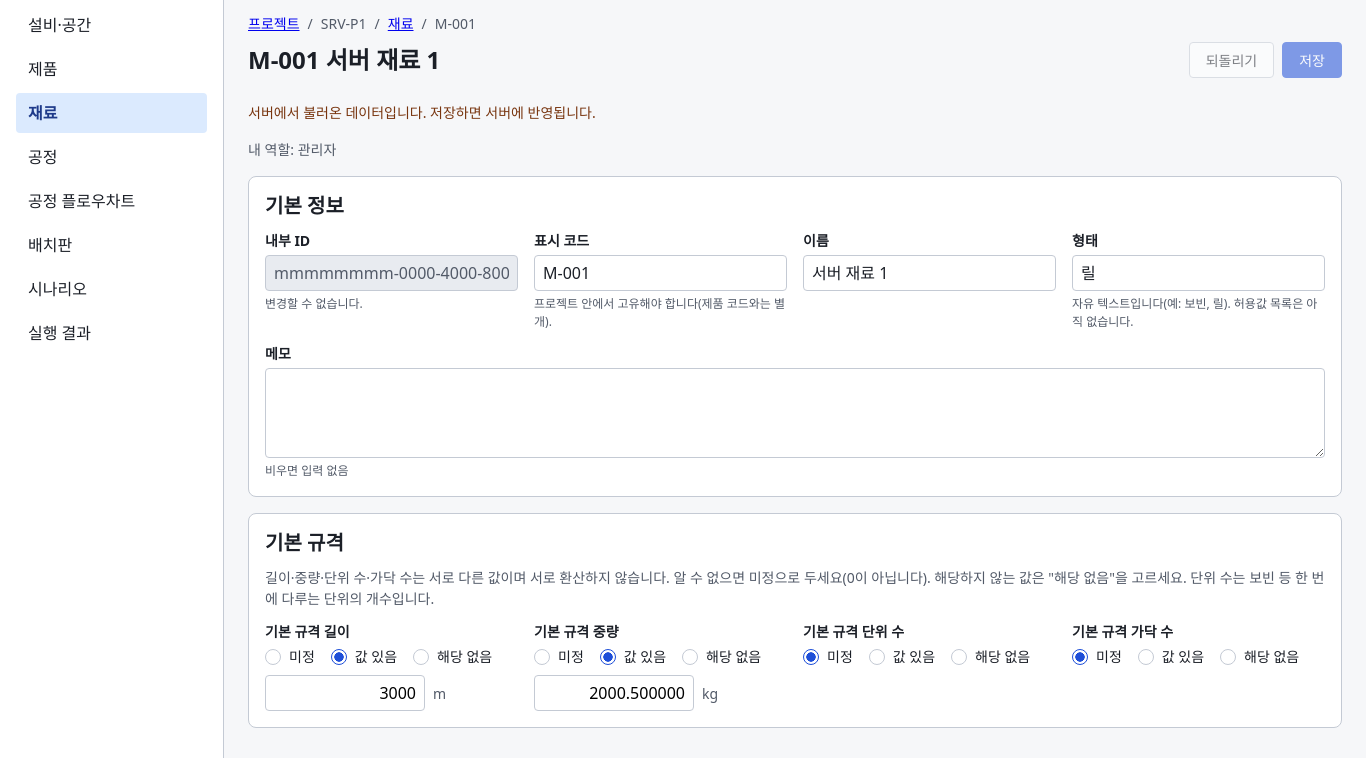
Scenario: 재료 저장 (PATCH) › 규격만 바꾸면 기본 정보 필드는 보내지 않는다
(page scrolled)
Expected: the heading "M-001 서버 재료 1" is shown, left=248, top=45, right=440, bottom=75
Expected: the text "내 역할: 관리자" is shown, left=248, top=140, right=336, bottom=159
Click the 11th radio button named "값 있음" at (1146, 656), box left=1138, top=648, right=1154, bottom=664
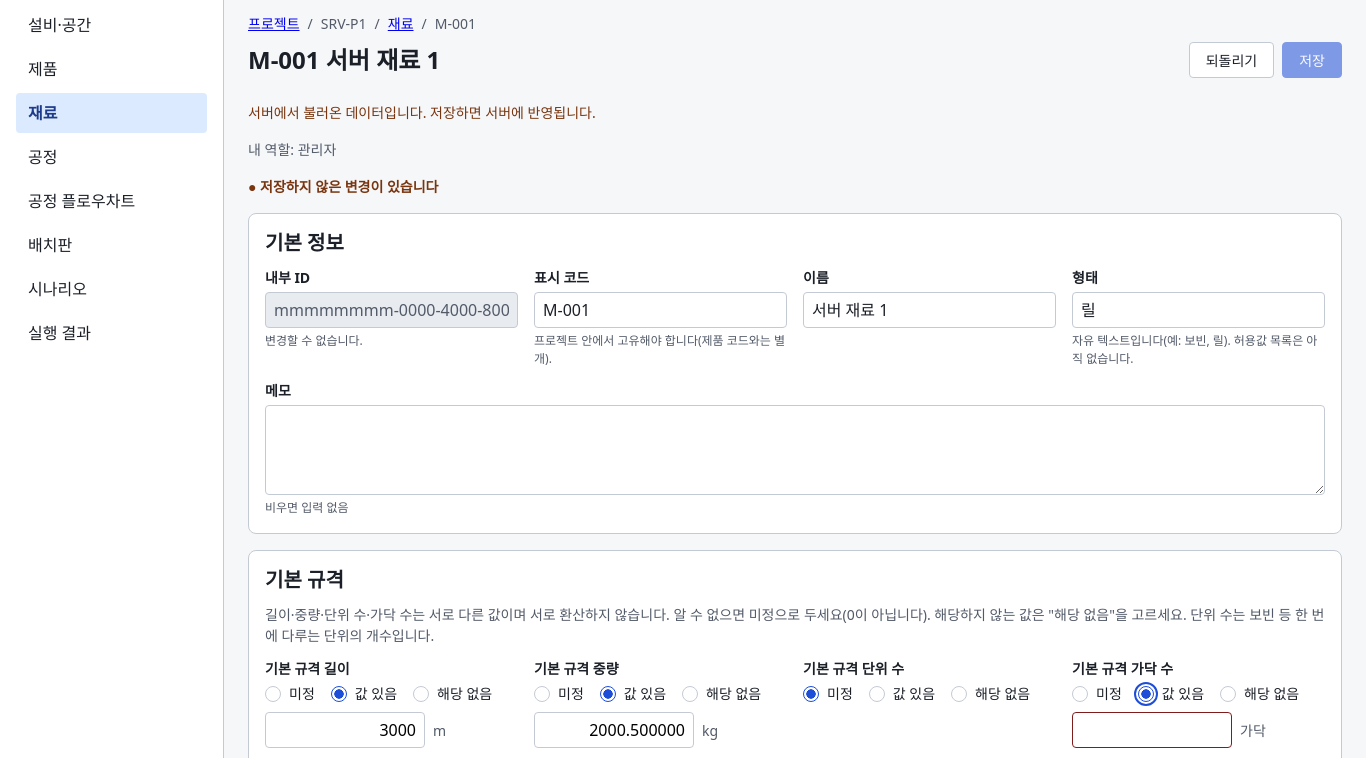
Type "12" into the field named "기본 규격 가닥 수 값" at (1152, 730), box left=1072, top=712, right=1232, bottom=748
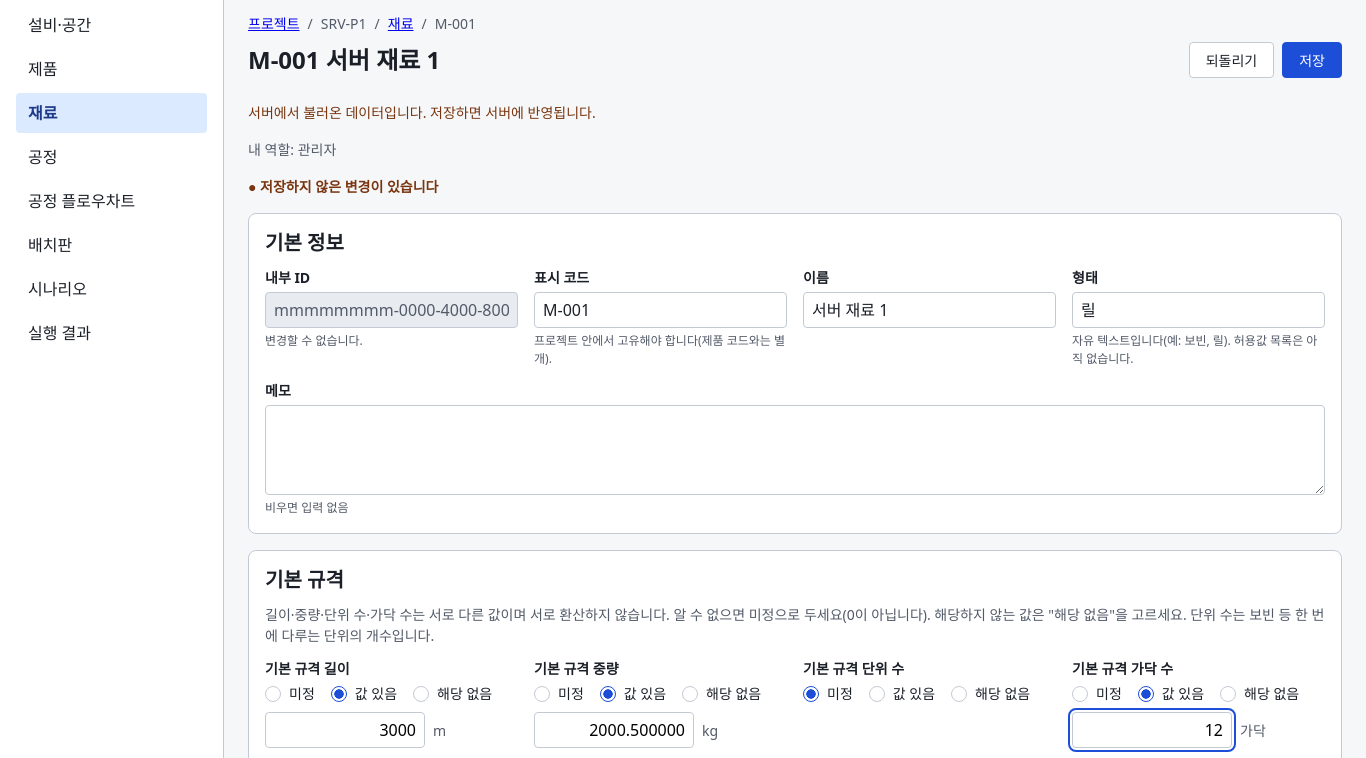
Click the button "저장" at (1312, 60), box left=1282, top=42, right=1342, bottom=78
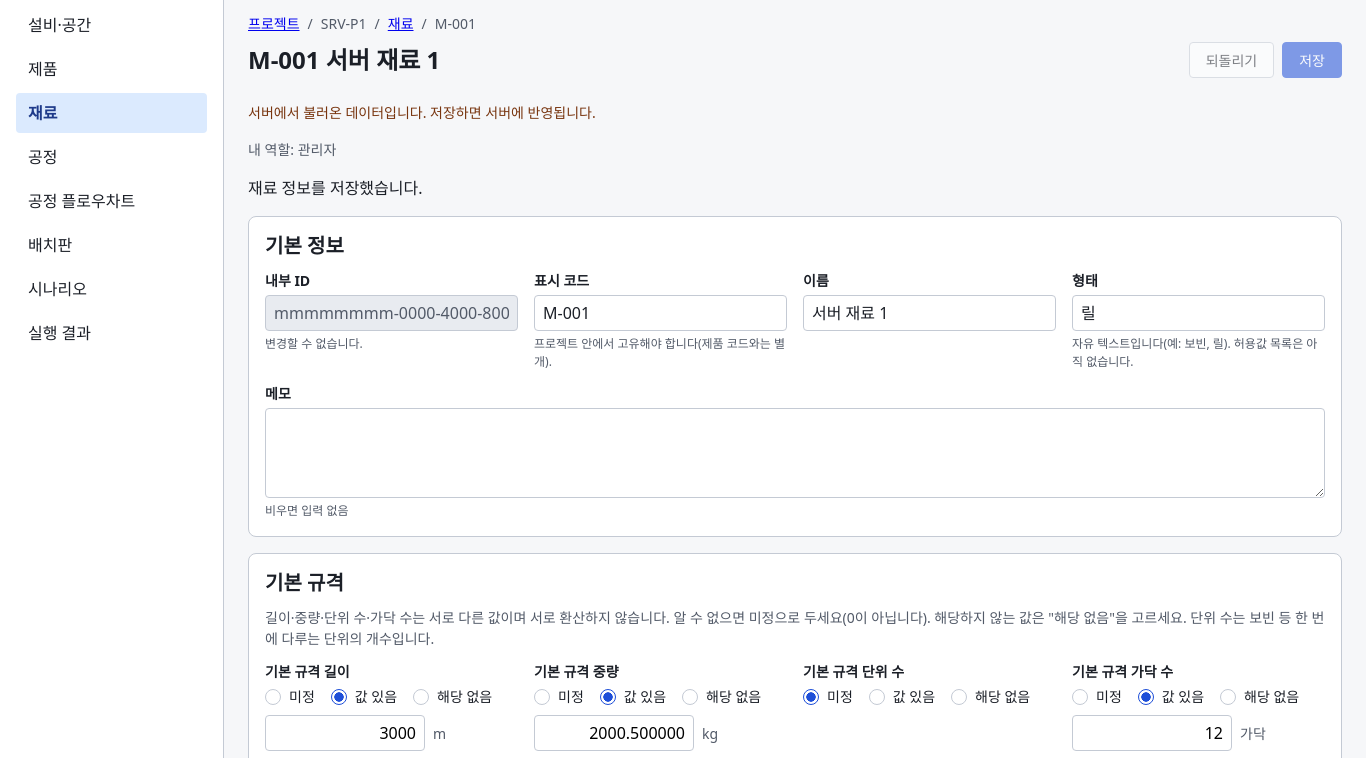
Now the text "재료 정보를 저장했습니다." is shown, box left=248, top=177, right=422, bottom=199
